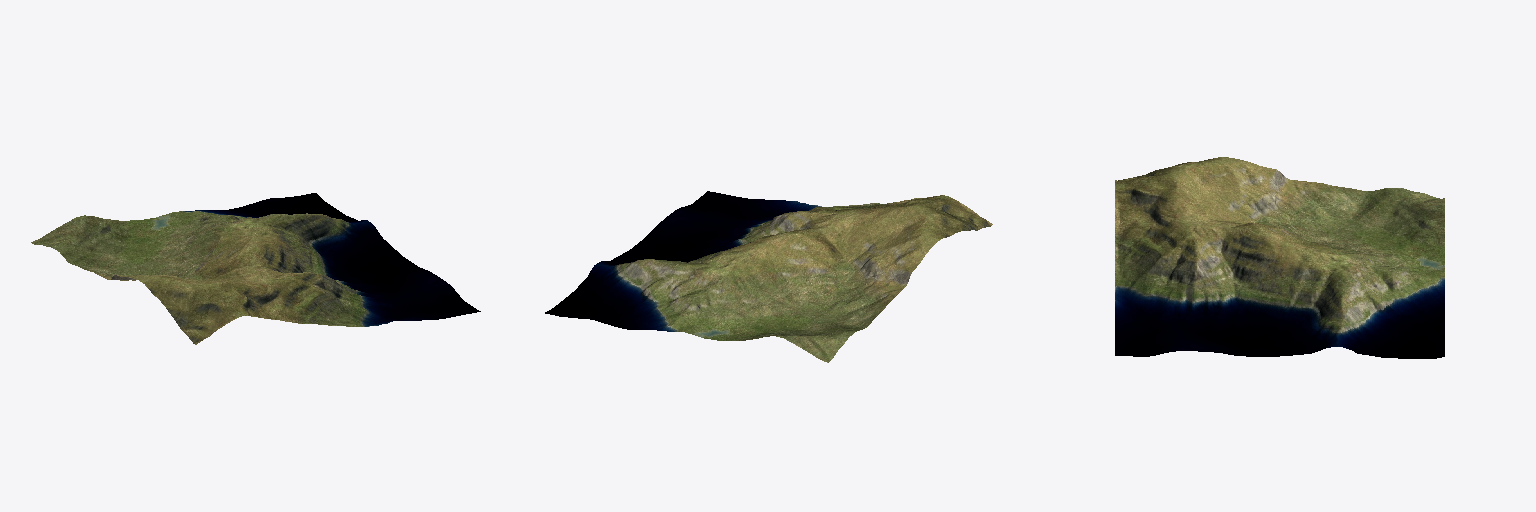
3 views of the same model, side by side, from view 1: azimuth 30°, elevation 25°; view 2: azimuth 150°, elevation 25°; view 3: azimuth 270°, elevation 25° (orthographic).
Visible parts, largest first — view 1: terrain_o; view 2: terrain_o; view 3: terrain_o.
Boxes of the visible parts, box(x1,y1,x2,y2) form: terrain_o: box(31, 193, 480, 344); terrain_o: box(545, 191, 992, 362); terrain_o: box(1115, 157, 1444, 358).
Size of the model in its own units: 5110 by 1159 by 5120.
1 materials, 1 textured.